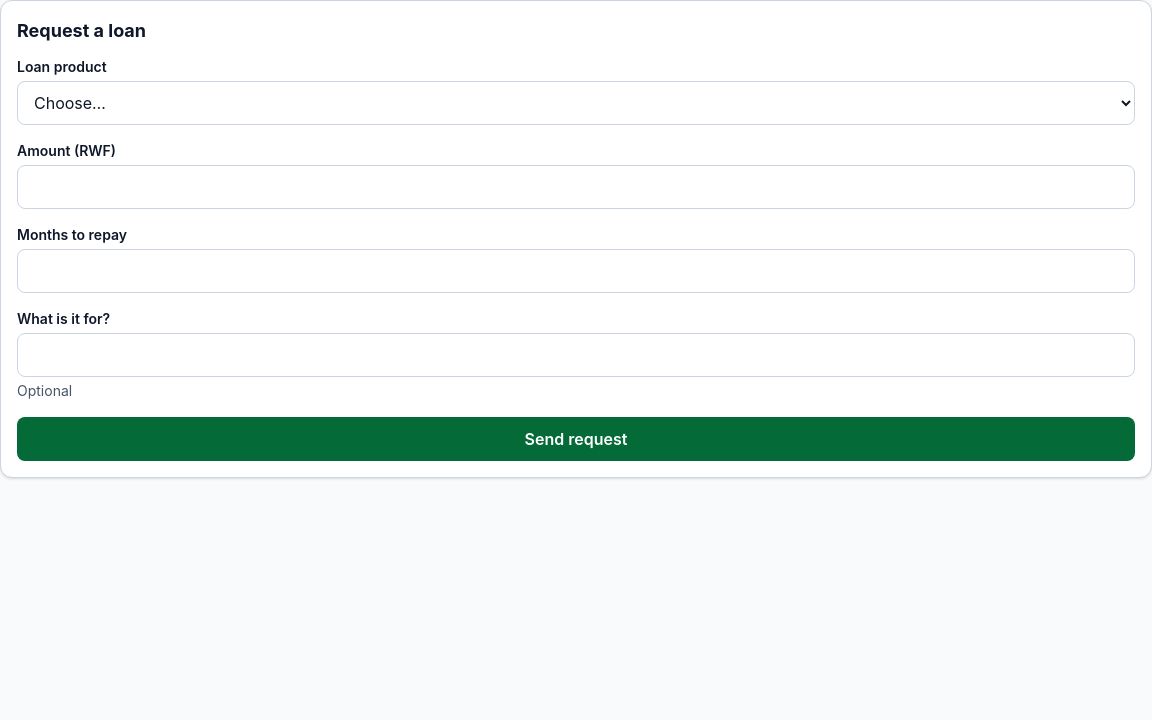
Test: loans › shows every reason the group refuses a loan request
The width and height of the screenshot is (1152, 720).
Step 1. Select "Standard" in the dropdown labelled "Loan product" → coordinates (576, 103), box [17,81,1135,125]
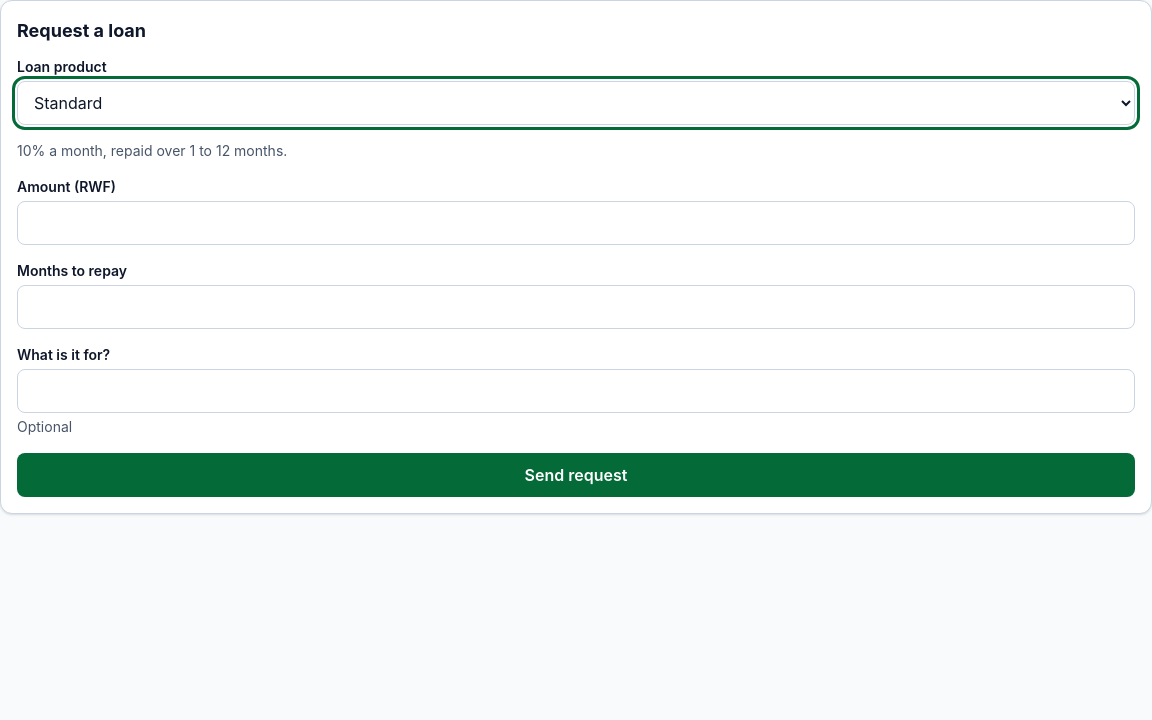
Now the text "10% a month, repaid over 1 to 12 months." is shown, box [17,142,287,159]
Step 2. Type "60,000" into the field labelled "Amount (RWF)" → coordinates (576, 223), box [17,201,1135,245]
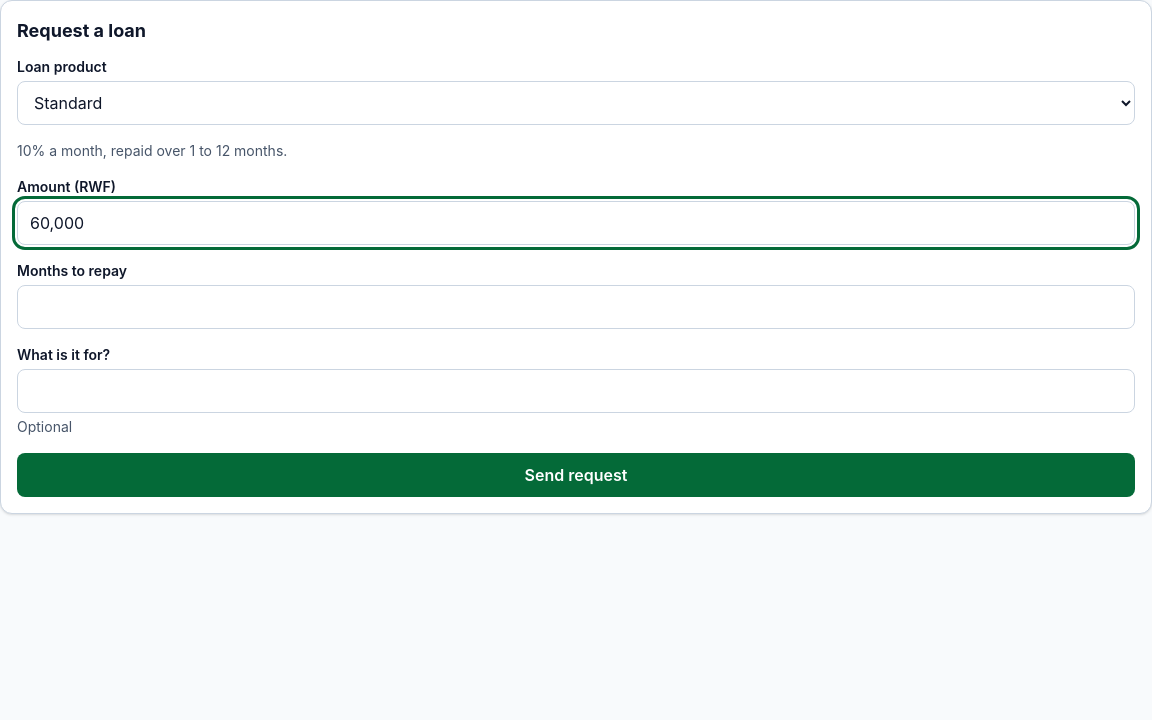
Step 3. Type "24" into the field labelled "Months to repay" → coordinates (576, 307), box [17,285,1135,329]
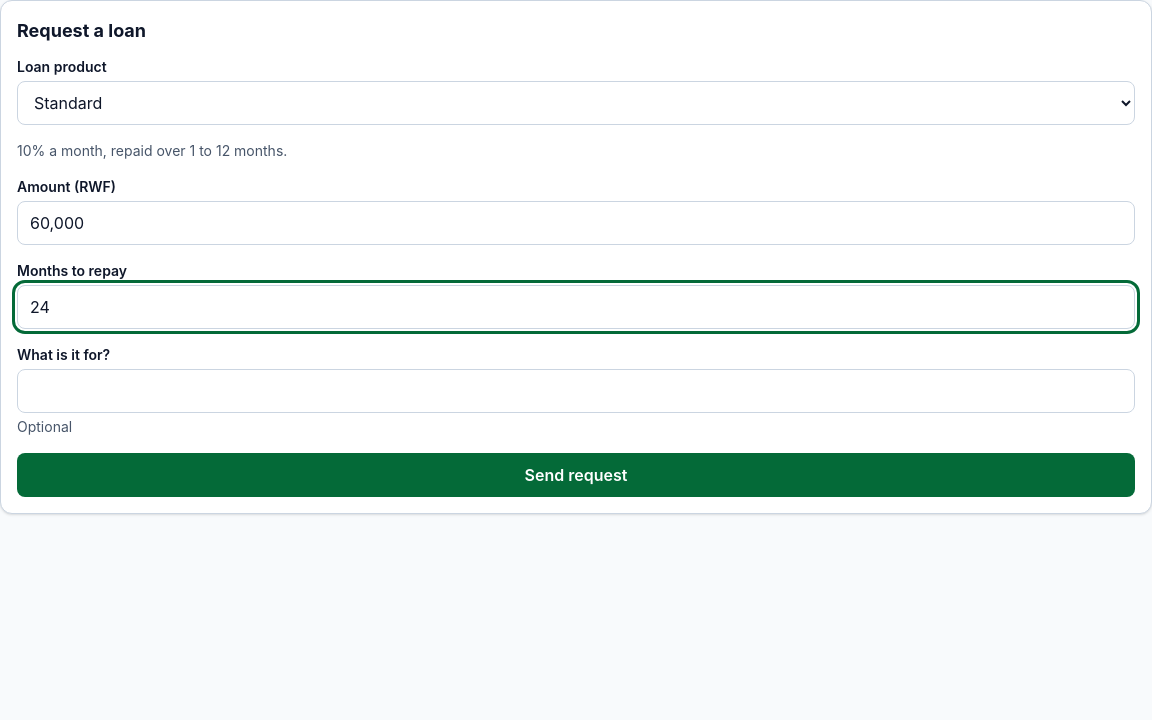
Step 4. Click the button "Send request" → coordinates (576, 475), box [17,453,1135,497]
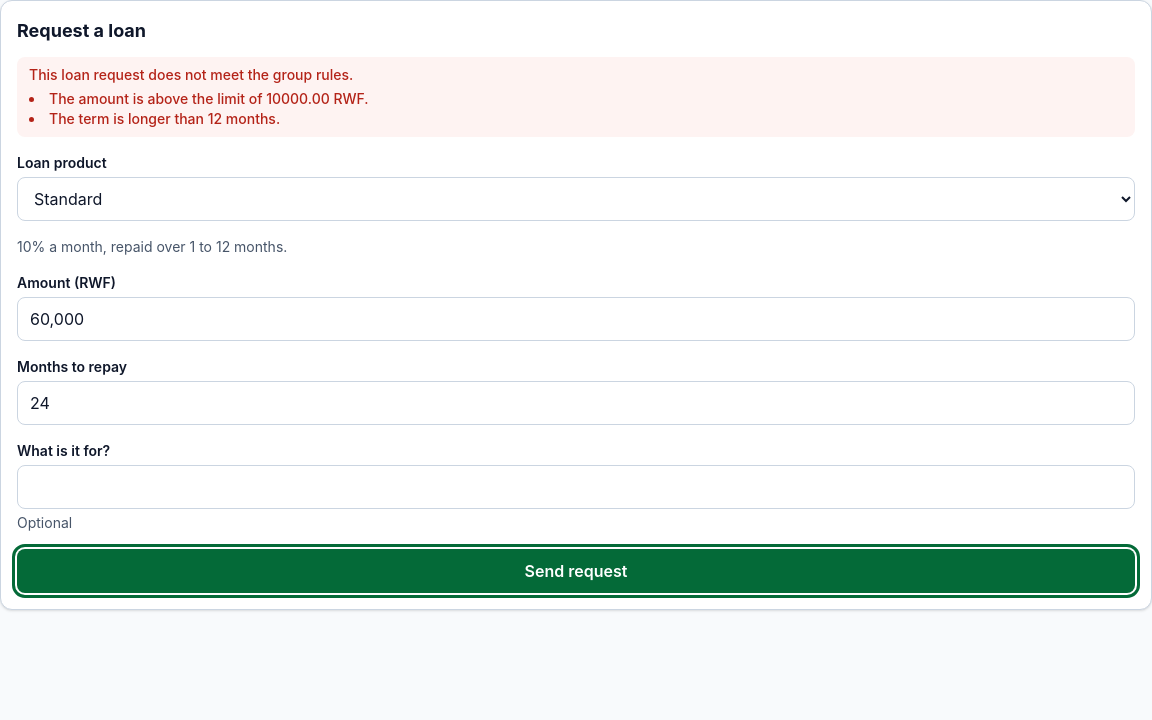
Now the message shows "The amount is above the limit of 10000.00 RWF.", box [49,90,369,107]
Now the message shows "The term is longer than 12 months.", box [49,110,280,127]
